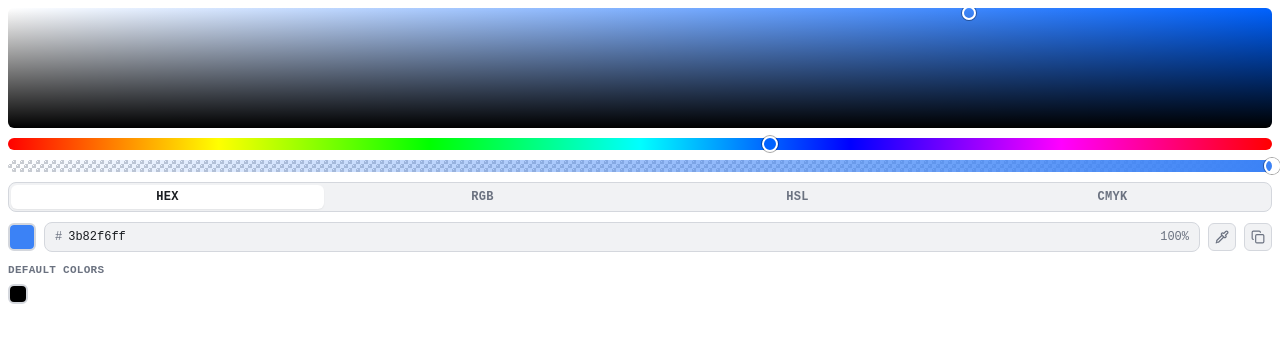
it: ColorPicker — classNames slots › adds each slot class alongside the built-in pqc-* class
This screenshot has width=1280, height=355.
expect the slider with class "x-sv" is shown: met, box [8, 8, 1272, 128]
expect the slider with class "x-hue" is shown: met, box [8, 138, 1272, 150]
Note: Sliders live in the rgb/hsl/cmyk panels.
Click the tab "rgb": (482, 197) [326, 185, 639, 209]
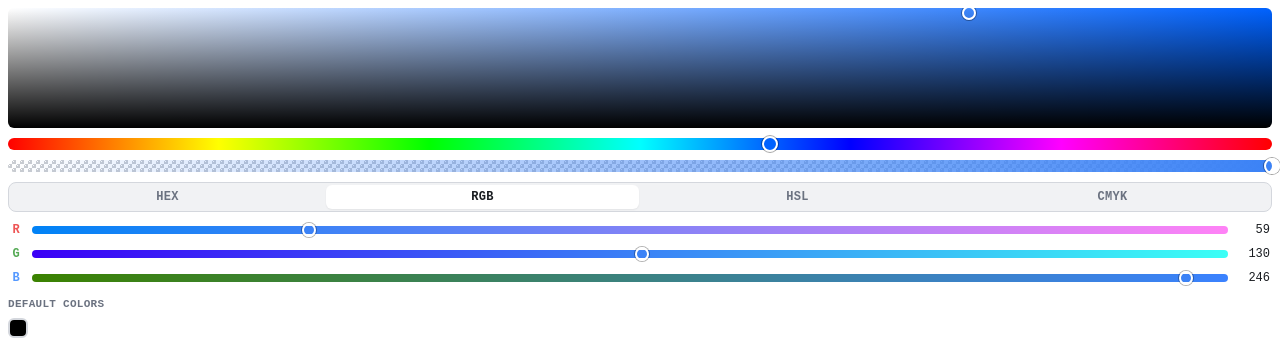
expect the number of sliders with class "x-slider" is 3: met, box [32, 226, 1228, 234]; [32, 250, 1228, 258]; [32, 274, 1228, 282]
